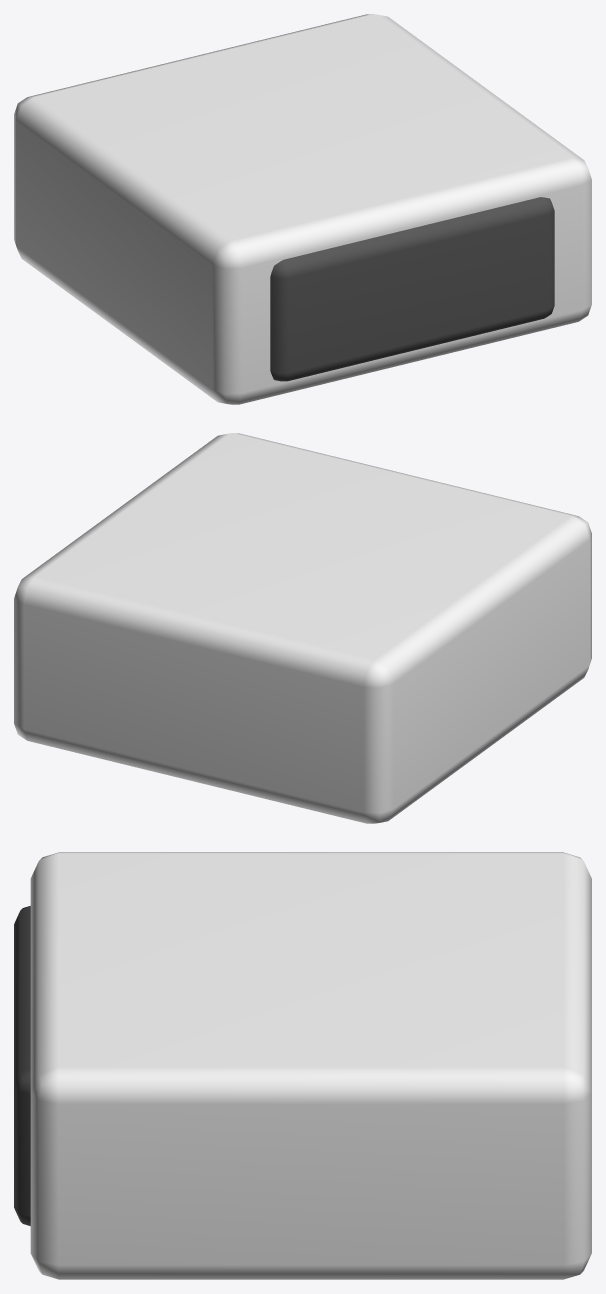
File: cup_platform_001.fbx
3 renders of one model, top to bottom at view 1: azimuth 30°, elevation 25°; view 2: azimuth 150°, elevation 25°; view 3: azimuth 270°, elevation 25°, orthographic. The views are drawn at different scales.
Visible parts, largest first — view 1: cup_platform_001; view 2: cup_platform_001; view 3: cup_platform_001.
Boxes of the visible parts, bbox=[...] form: cup_platform_001: bbox=[14, 14, 591, 404]; cup_platform_001: bbox=[14, 433, 591, 823]; cup_platform_001: bbox=[14, 852, 591, 1279].
Bounding box in the file's own units: 437 × 449 × 182.
